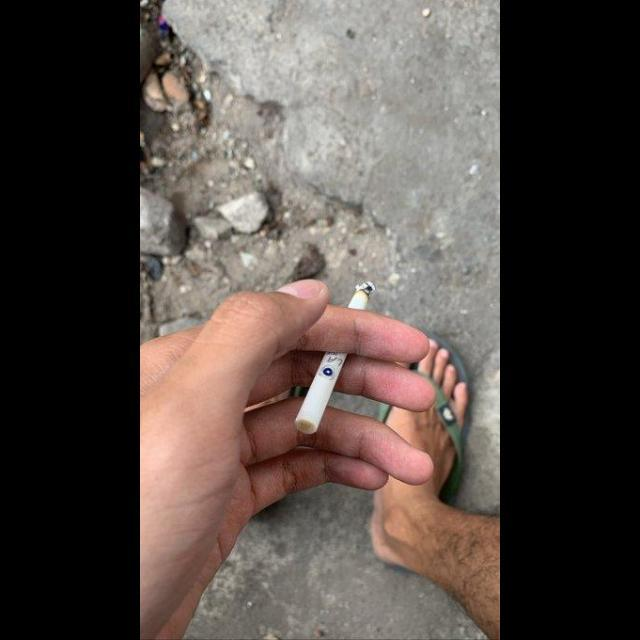rokok: (294, 272, 378, 436)
